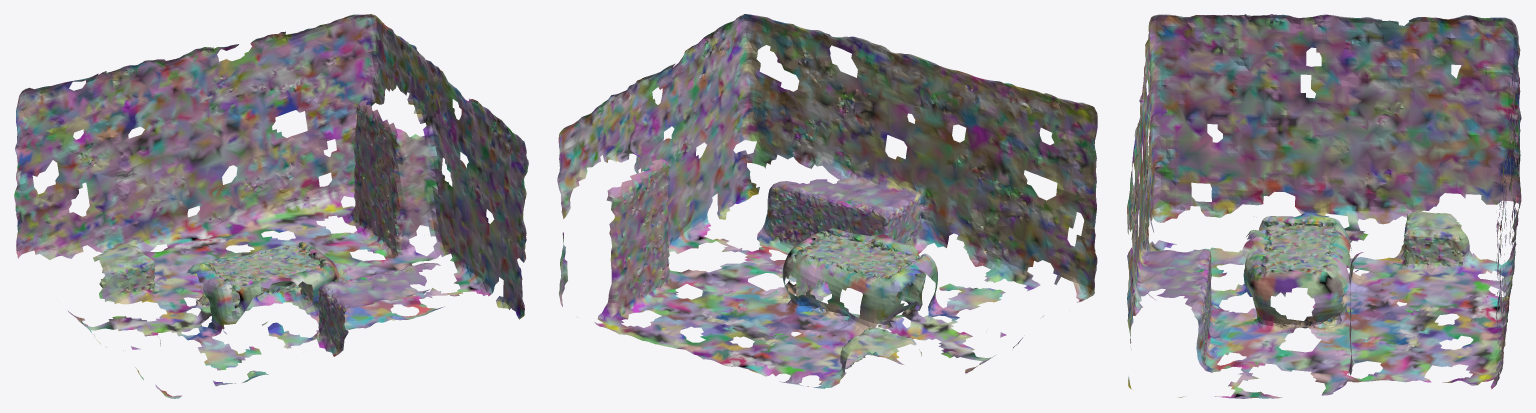
3 views of the same model, side by side, from view 1: azimuth 30°, elevation 25°; view 2: azimuth 150°, elevation 25°; view 3: azimuth 270°, elevation 25° (orthographic). The views are drawn at different scales.
Parts seen in each view (by area): view 1: geometry_0; view 2: geometry_0; view 3: geometry_0.
Part boxes in pixels (left/top/right/bottom): geometry_0: left=14, top=14, right=528, bottom=398; geometry_0: left=557, top=14, right=1097, bottom=388; geometry_0: left=1127, top=14, right=1521, bottom=398.
Bounding box in the file's own units: 6 × 3.04 × 5.1.
